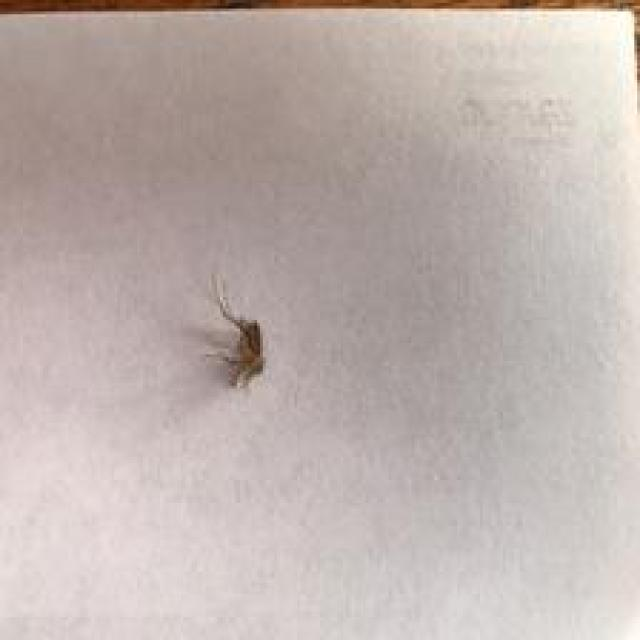Culex: (204, 272, 267, 392)
